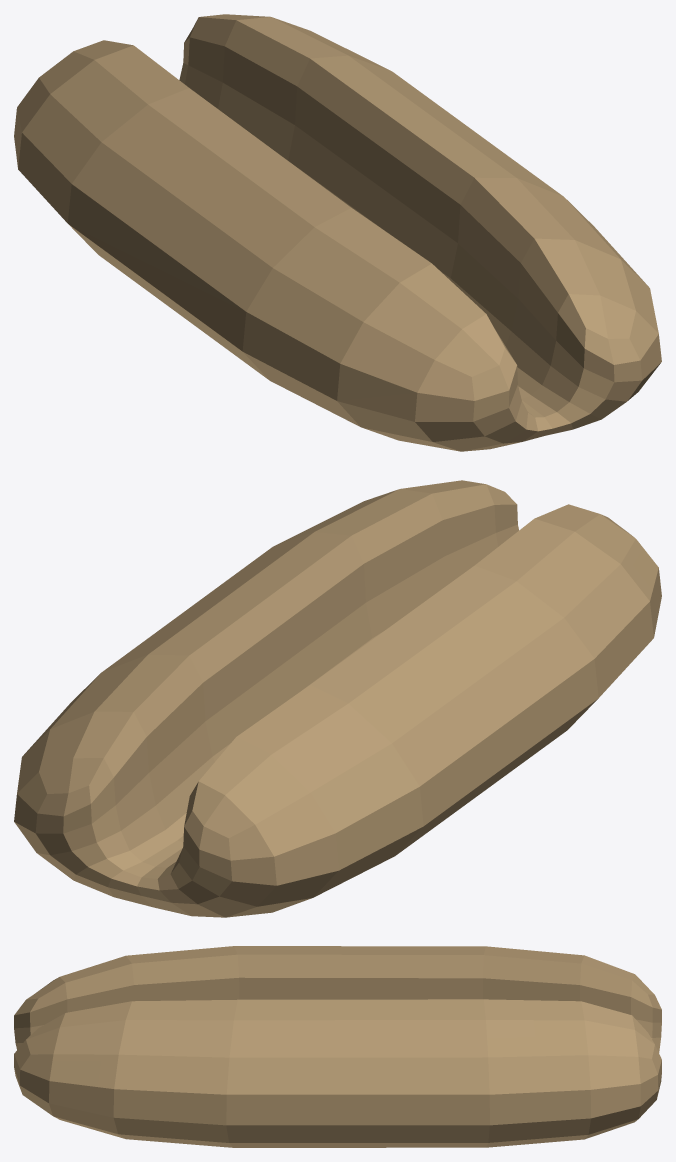
Rendered from Hotdog_Bun.glb.
3 views of the same model, one above another, from view 1: azimuth 30°, elevation 25°; view 2: azimuth 150°, elevation 25°; view 3: azimuth 270°, elevation 25° (orthographic). The views are drawn at different scales.
Parts seen in each view (by area): view 1: Hotdog_Bun; view 2: Hotdog_Bun; view 3: Hotdog_Bun.
Boxes of the visible parts, bbox=[...] form: Hotdog_Bun: bbox=[14, 14, 661, 451]; Hotdog_Bun: bbox=[14, 480, 661, 917]; Hotdog_Bun: bbox=[14, 946, 661, 1147].
Bounding box in the file's own units: 0.7853 × 0.4094 × 1.64.
